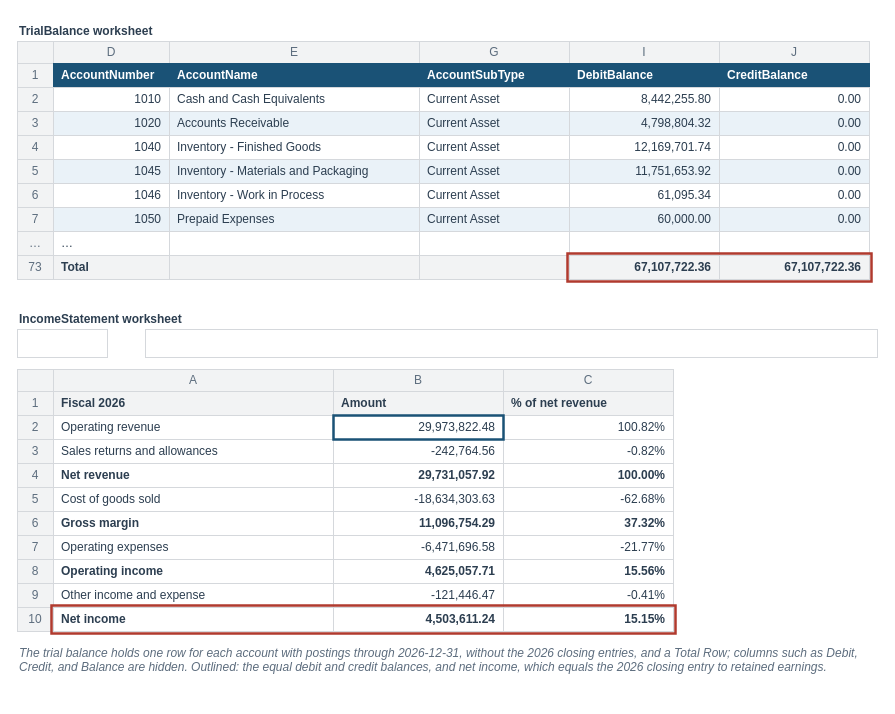
The diagram is 895 pixels wide and 714 high, and some of its shapes have lost their labels. The shapes that lost their labels are listed below. From the top down, each one's centre as x and y in pixels, then its label:
(62,343): B2
(126,343): fx
(511,343): =-SUMIFS(TrialBalance[Balance],TrialBalance[AccountSubType],"Operating Revenue")
